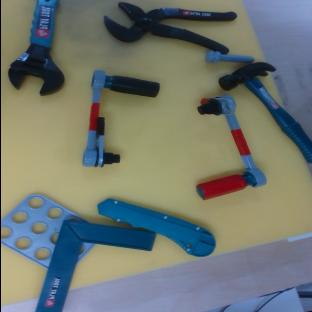non_pass: (81, 70, 160, 175)
pass: (175, 89, 267, 202)
